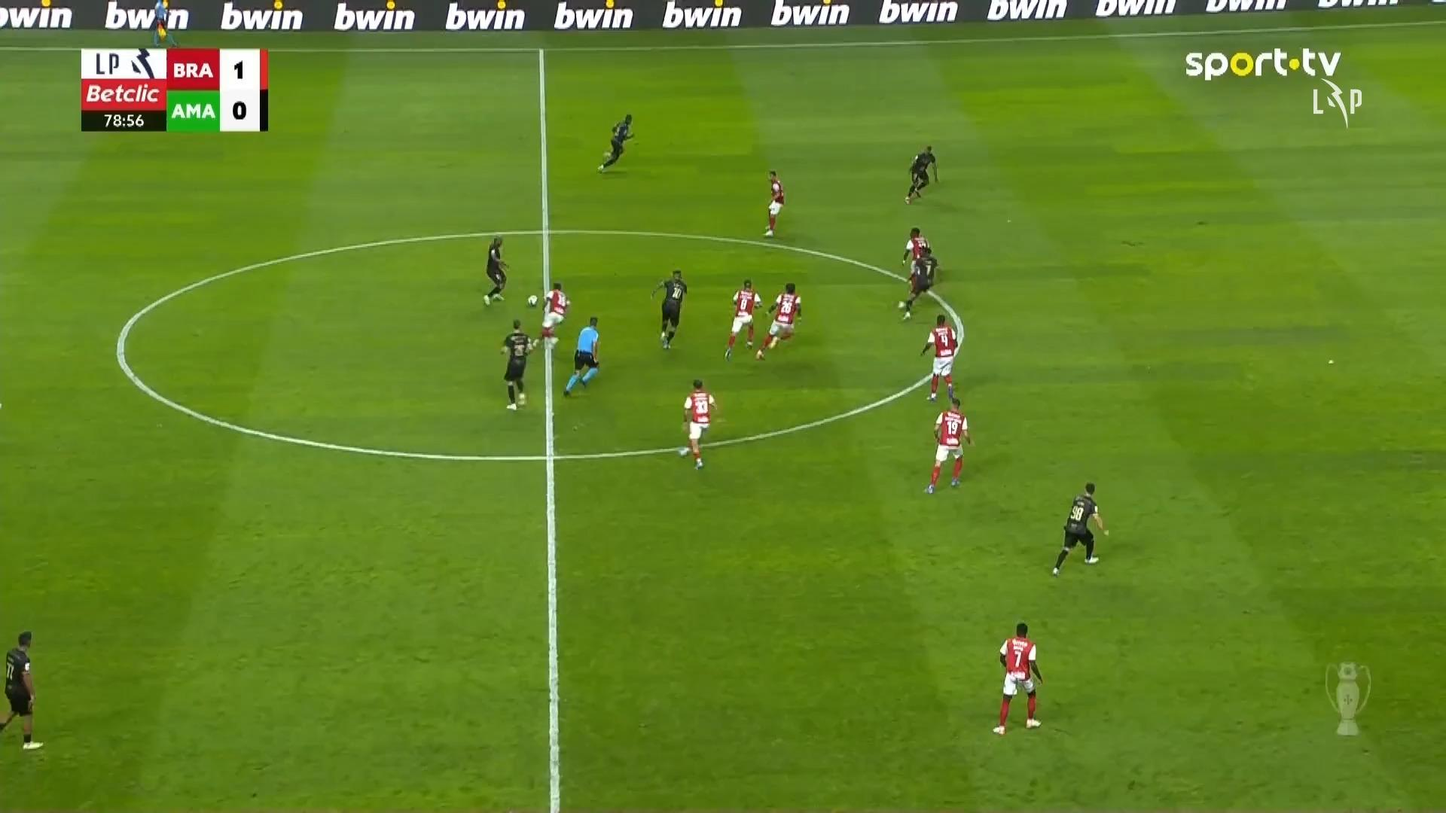ball: (526, 294, 537, 307)
player: (996, 623, 1047, 736), (1051, 481, 1108, 577), (0, 630, 44, 750), (923, 397, 974, 494), (754, 282, 802, 361), (920, 313, 959, 402), (679, 379, 717, 470), (499, 318, 534, 410), (723, 279, 762, 360), (897, 246, 938, 321), (650, 269, 687, 349), (596, 113, 636, 172), (904, 145, 939, 204), (539, 281, 570, 347), (483, 235, 508, 306), (762, 169, 786, 236), (901, 226, 930, 268)
referee: (562, 315, 600, 397), (151, 0, 176, 47)
